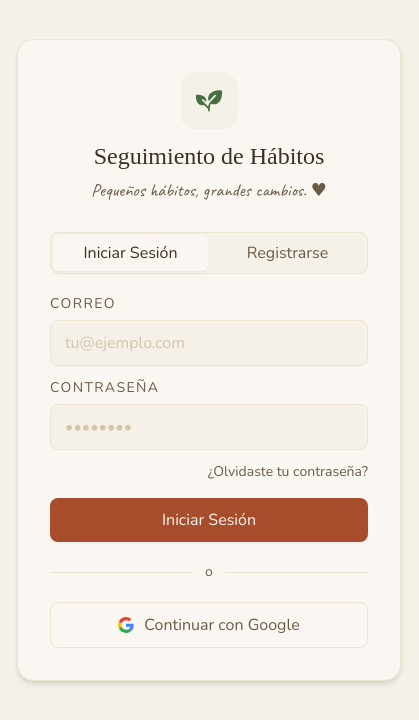
Test case: Login › shows an error message when sign-in fails
The image size is (419, 720).
Type "user@example.com" into the field with placeholder "tu@ejemplo.com". click: (209, 343)
box: [50,320,368,366]
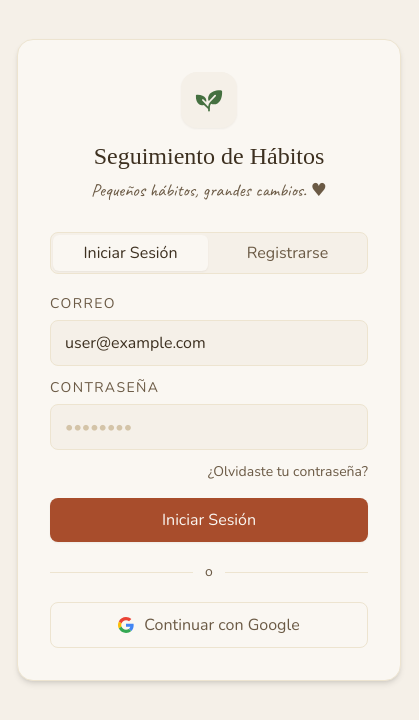
Type "wrong" into the password field with placeholder "••••••••". click: (209, 427)
box: [50,404,368,450]
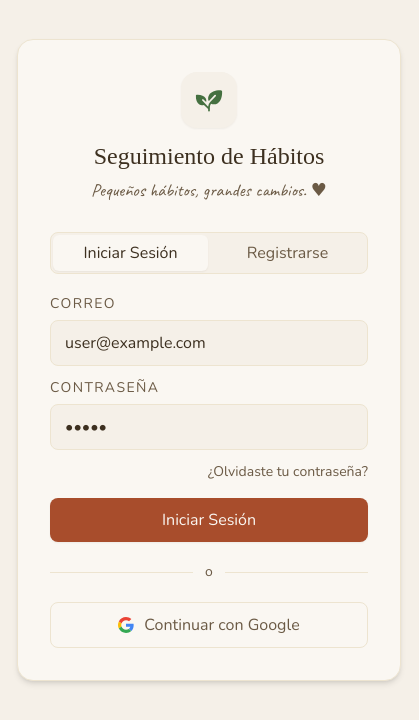
Click the submit button. click: (209, 520)
box: [50,498,368,542]
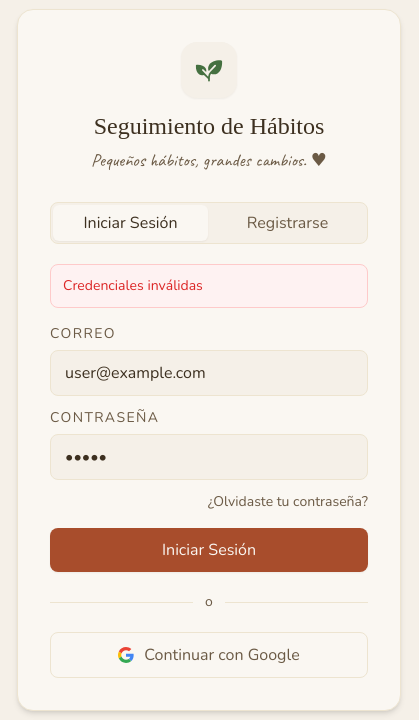
Check: the text "Credenciales inválidas" is shown, box [50,264,368,308]
